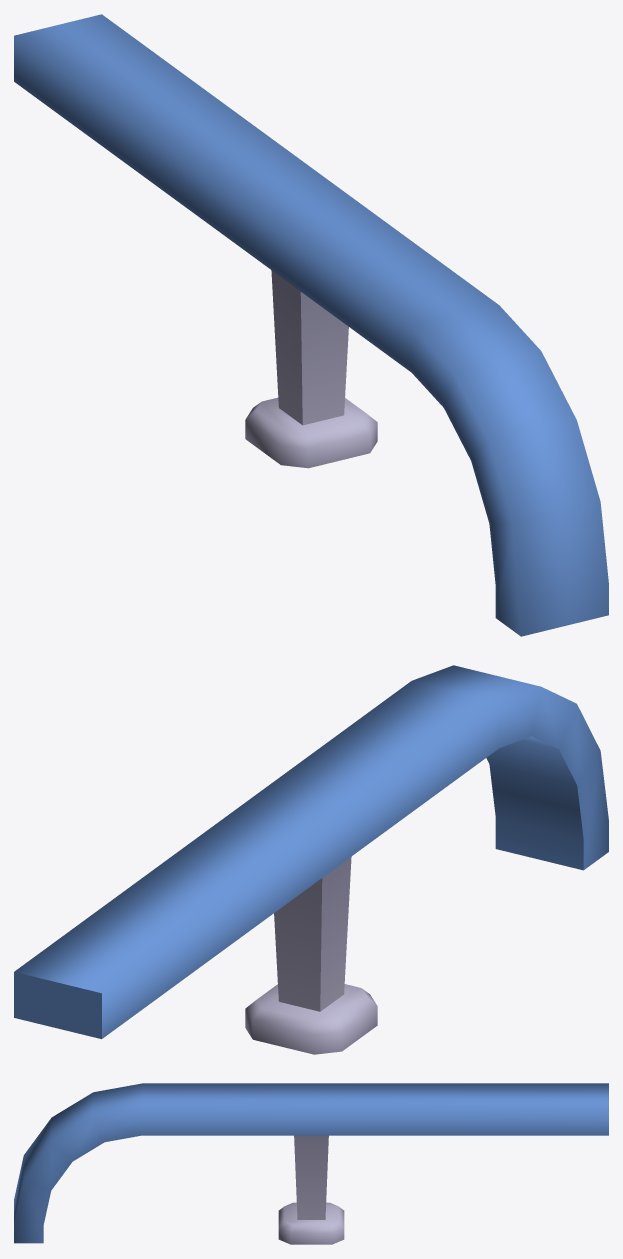
Rendered from rail-low-end.fbx.
The picture shows the model from 3 angles, top to bottom: view 1: azimuth 30°, elevation 25°; view 2: azimuth 150°, elevation 25°; view 3: azimuth 270°, elevation 25°; orthographic projection. The views are drawn at different scales.
Parts seen in each view (by area): view 1: rail-low-end; view 2: rail-low-end; view 3: rail-low-end.
Part boxes in pixels (left/top/right/bottom): rail-low-end: left=14, top=14, right=608, bottom=636; rail-low-end: left=14, top=665, right=608, bottom=1054; rail-low-end: left=14, top=1083, right=608, bottom=1244.
Bounding box in the file's own units: 11 × 25 × 100.
1 material, 1 textured.
